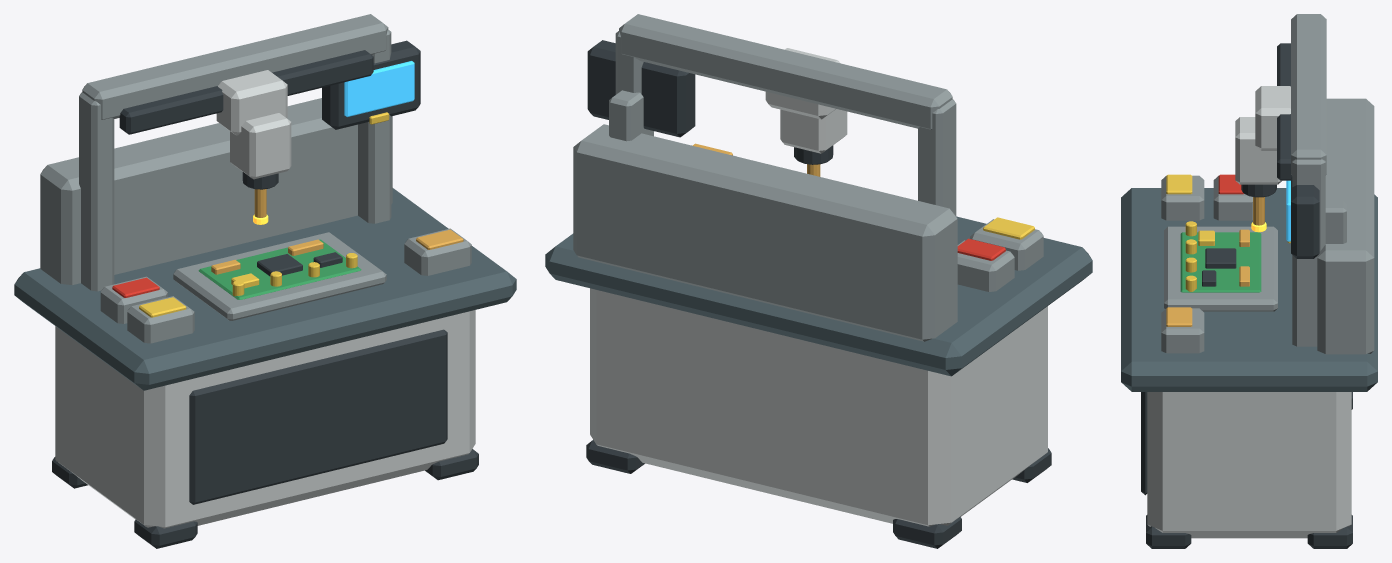
Rendered from FTF_Tool_ElectronicAssemblyStation.glb.
3 views of the same model, side by side, from view 1: azimuth 30°, elevation 25°; view 2: azimuth 150°, elevation 25°; view 3: azimuth 270°, elevation 25° (orthographic). The views are drawn at different scales.
Visible parts, largest first — view 1: ElectronicAssemblyStation_Body, AssemblyToolHead; view 2: ElectronicAssemblyStation_Body, AssemblyToolHead; view 3: ElectronicAssemblyStation_Body, AssemblyToolHead.
Boxes of the visible parts, x1=… form: ElectronicAssemblyStation_Body: x1=14, y1=14, x2=516, y2=548; AssemblyToolHead: x1=230, y1=113, x2=291, y2=217; ElectronicAssemblyStation_Body: x1=545, y1=14, x2=1092, y2=548; AssemblyToolHead: x1=780, y1=109, x2=847, y2=176; ElectronicAssemblyStation_Body: x1=1121, y1=14, x2=1377, y2=548; AssemblyToolHead: x1=1235, y1=117, x2=1281, y2=225.
Size of the model in its own units: 1.82 by 1.82 by 1.08.
